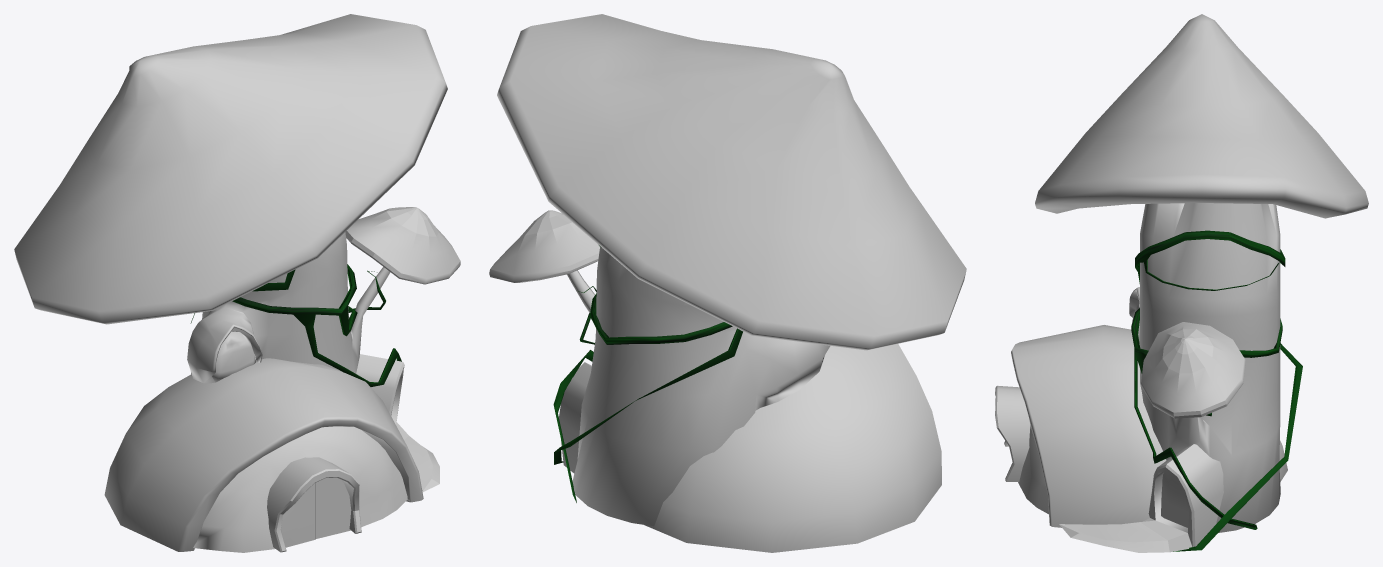
Rendered from mushroom_red.fbx.
3 views of the same model, side by side, from view 1: azimuth 30°, elevation 25°; view 2: azimuth 150°, elevation 25°; view 3: azimuth 270°, elevation 25° (orthographic). The views are drawn at different scales.
Visible parts, largest first — view 1: polySurface4; view 2: polySurface4; view 3: polySurface4.
Part boxes in pixels (x1,y1,x2,y2): polySurface4: (14, 14, 460, 552); polySurface4: (489, 14, 966, 552); polySurface4: (995, 14, 1368, 552).
Size of the model in its own units: 67.7 by 67.44 by 54.2.
